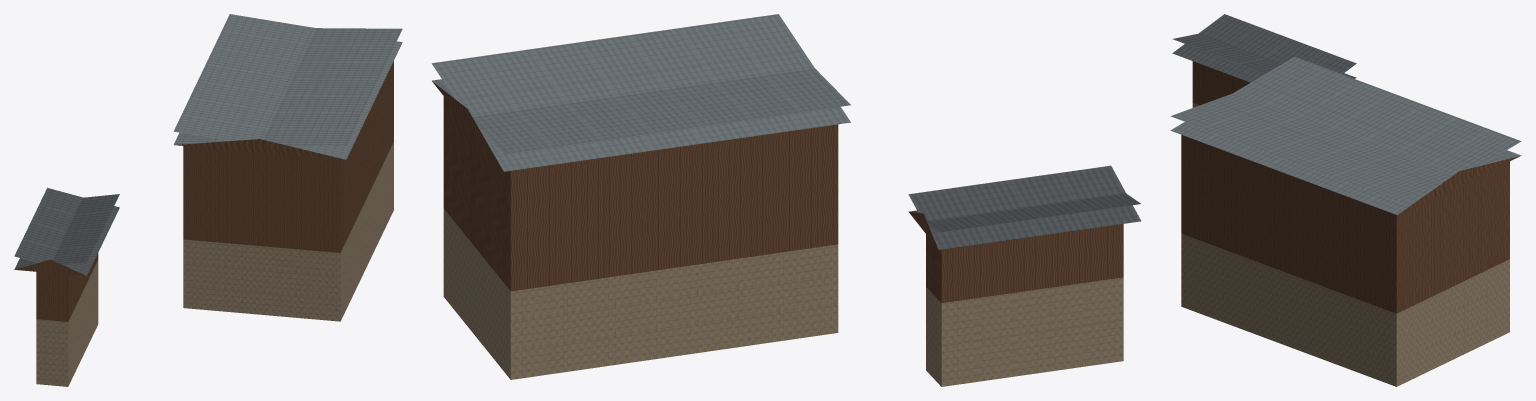
The model's file is bld_c13_36_419.gltf.
3 views of the same model, side by side, from view 1: azimuth 30°, elevation 25°; view 2: azimuth 150°, elevation 25°; view 3: azimuth 270°, elevation 25° (orthographic). The views are drawn at different scales.
Parts seen in each view (by area): view 1: bld_c13_36_419; view 2: bld_c13_36_419; view 3: bld_c13_36_419.
Boxes of the visible parts, x1,y1,x2,y2 form: bld_c13_36_419: (14, 14, 402, 386); bld_c13_36_419: (431, 14, 1140, 386); bld_c13_36_419: (1170, 14, 1521, 386).
Bounding box in the file's own units: 36.53 × 13.6 × 22.21.
5 materials, 5 textured.
